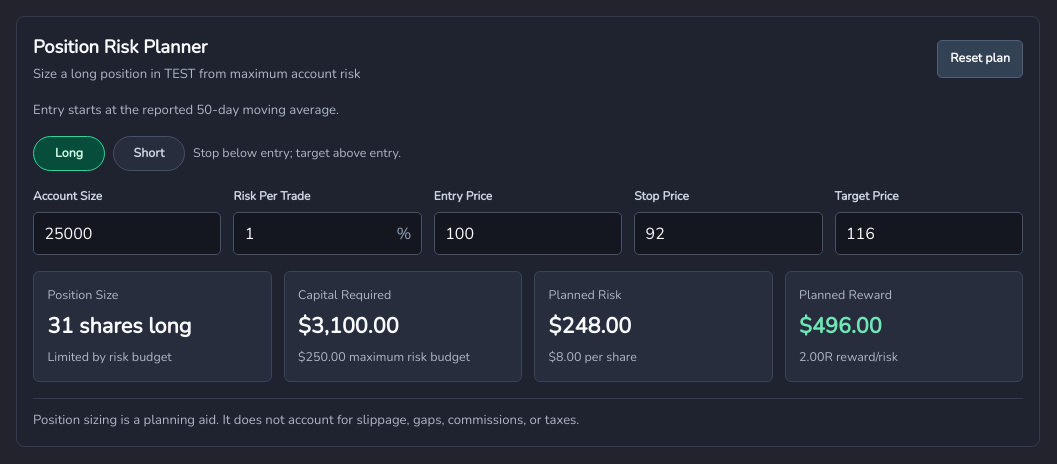
Scenario: StockPositionPlanner › updates the share plan when risk changes
This screenshot has width=1057, height=464.
Expected: the text "31 shares long" is shown, x1=48 y1=311 x2=192 y2=341
Replace the text in the number field labelled "Risk Per Trade" with "2" at (328, 234), box x1=233 y1=212 x2=422 y2=255
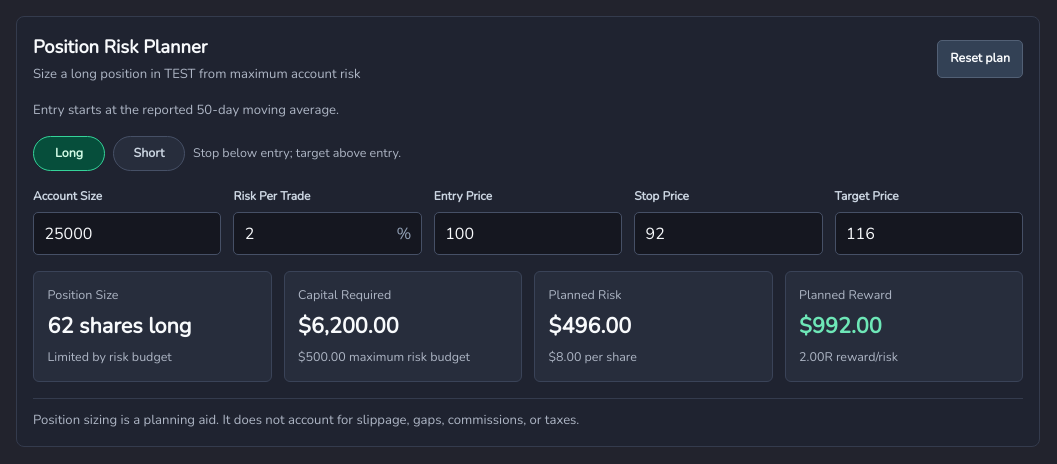
Expected: the text "62 shares long" is shown, x1=48 y1=311 x2=192 y2=341
Expected: the text "$496.00" is shown, x1=549 y1=311 x2=631 y2=341
